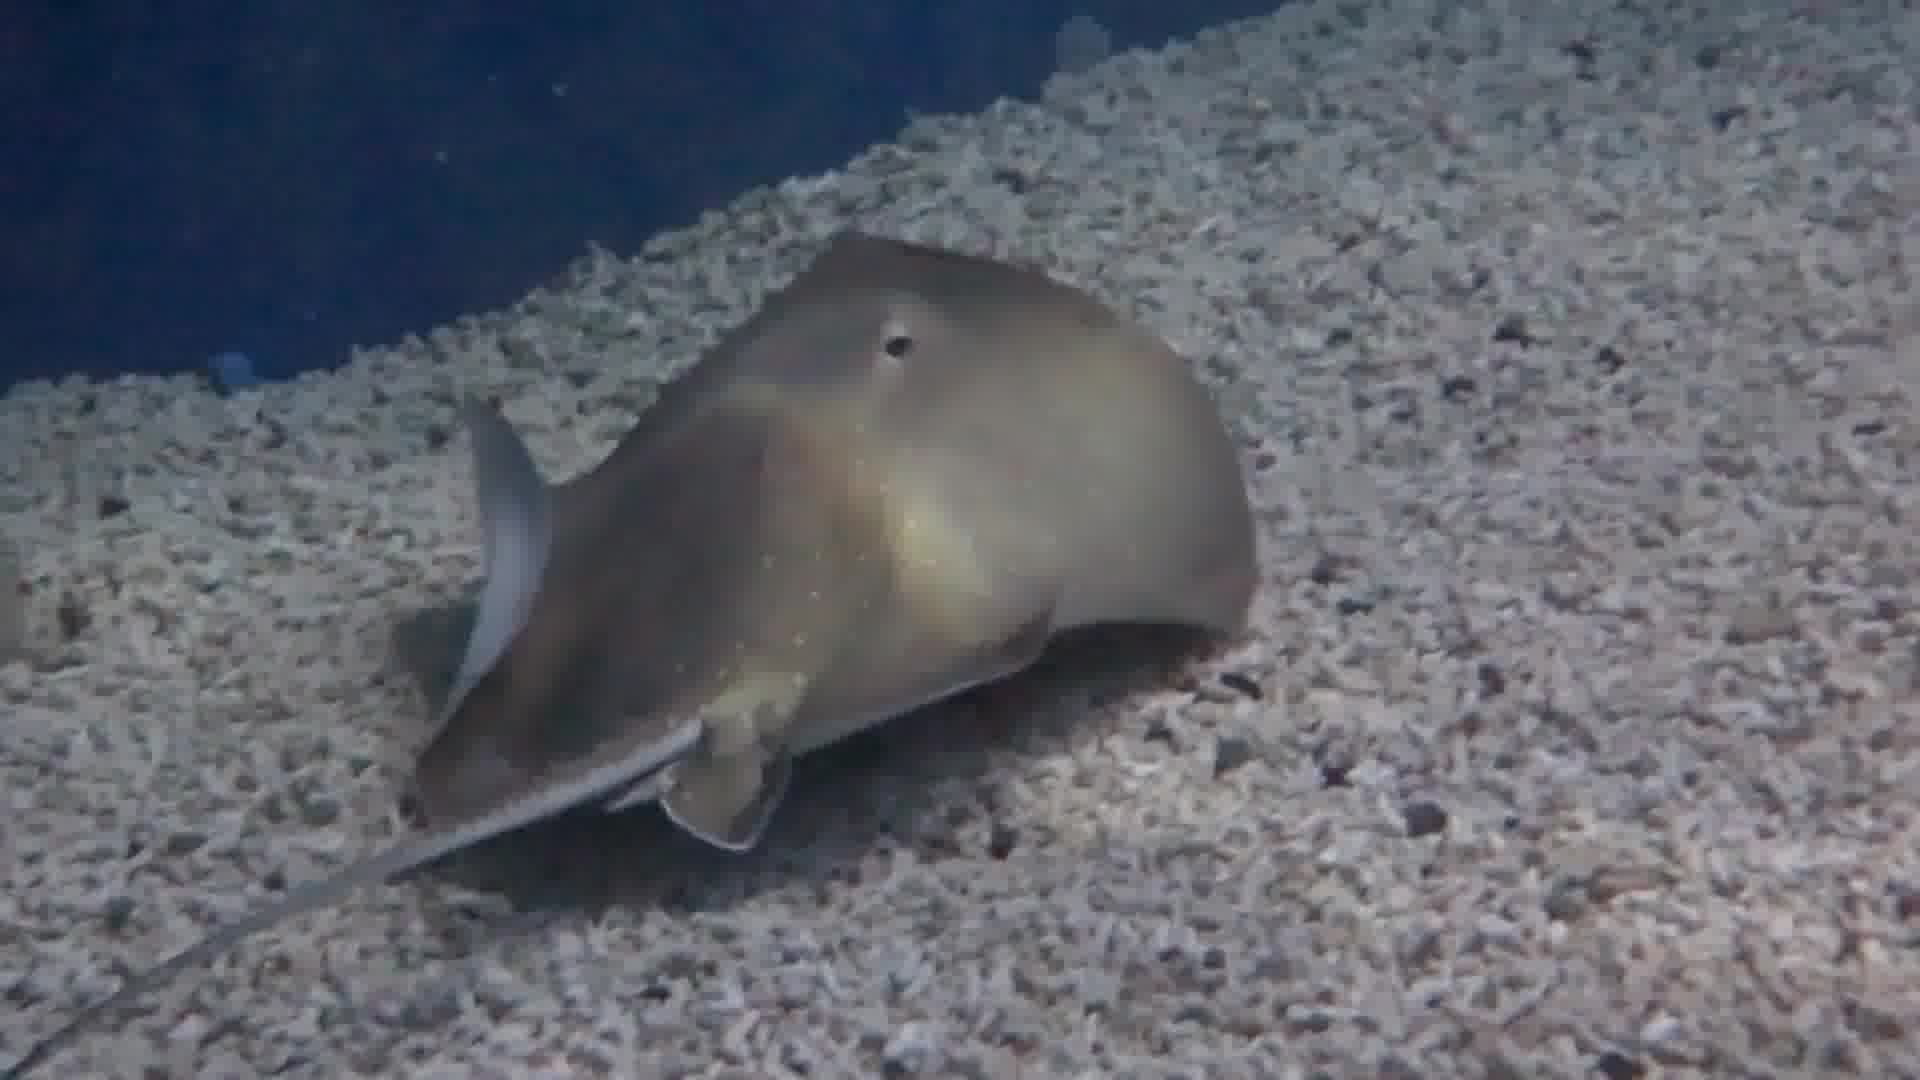Himantura gerrardi: (45, 219, 1274, 944)
